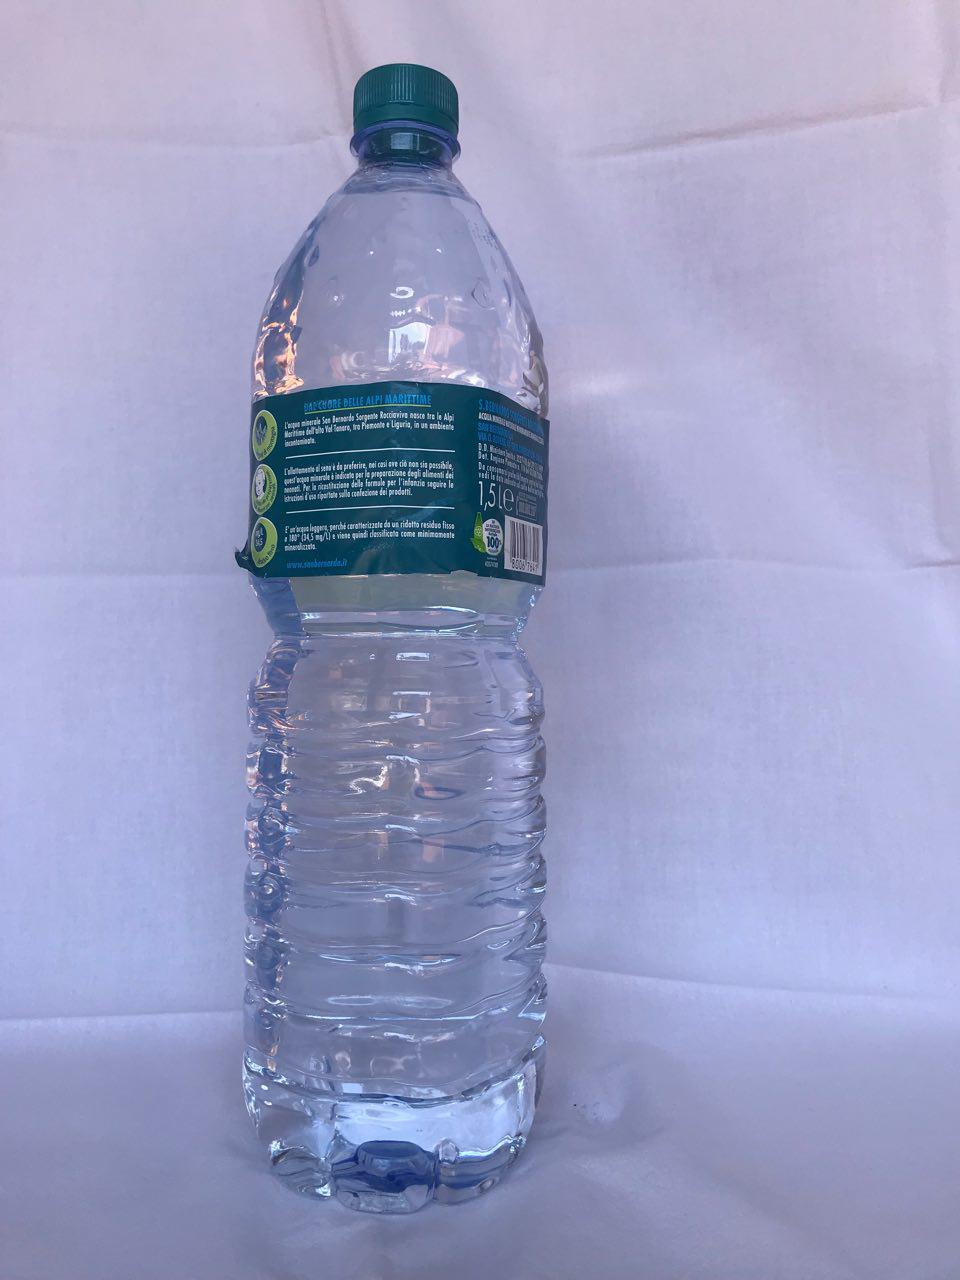san_bernardo: (239, 60, 553, 1217)
